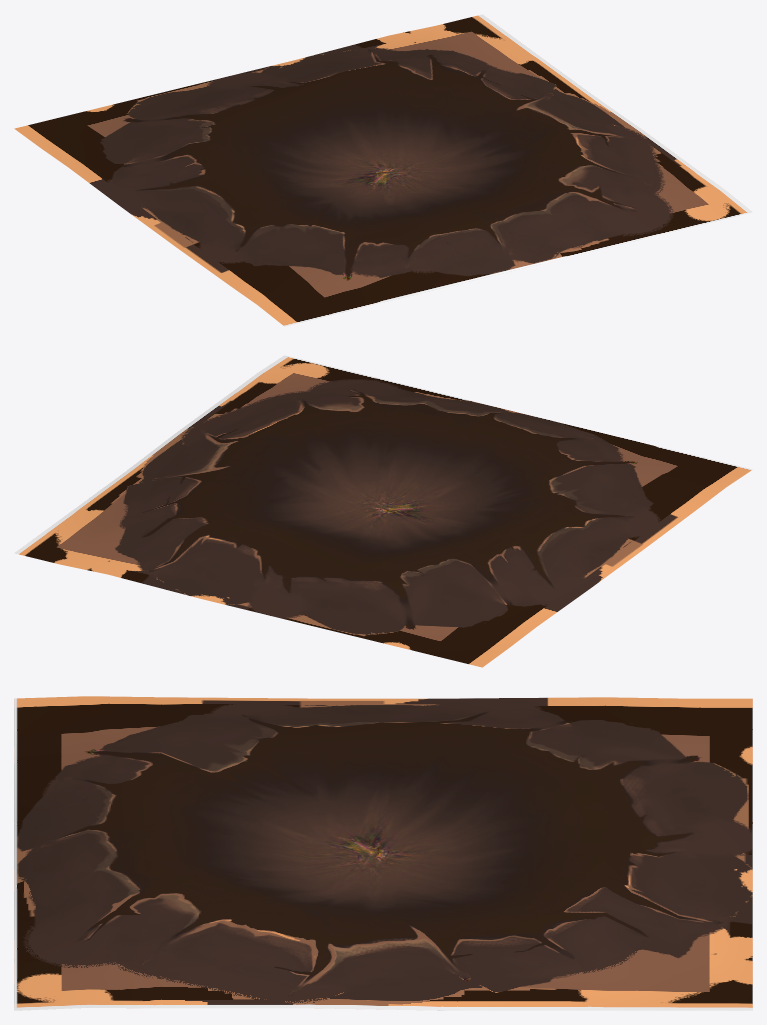
The model's file is CrackHole.fbx.
3 views of the same model, one above another, from view 1: azimuth 30°, elevation 25°; view 2: azimuth 150°, elevation 25°; view 3: azimuth 270°, elevation 25° (orthographic). The views are drawn at different scales.
Visible parts, largest first — view 1: CrackHole; view 2: CrackHole; view 3: CrackHole.
Part boxes in pixels (<box>): CrackHole: <box>14,14,752,326</box>; CrackHole: <box>14,355,752,667</box>; CrackHole: <box>14,696,752,1010</box>.
Bounding box in the file's own units: 200 × 11.11 × 200.
